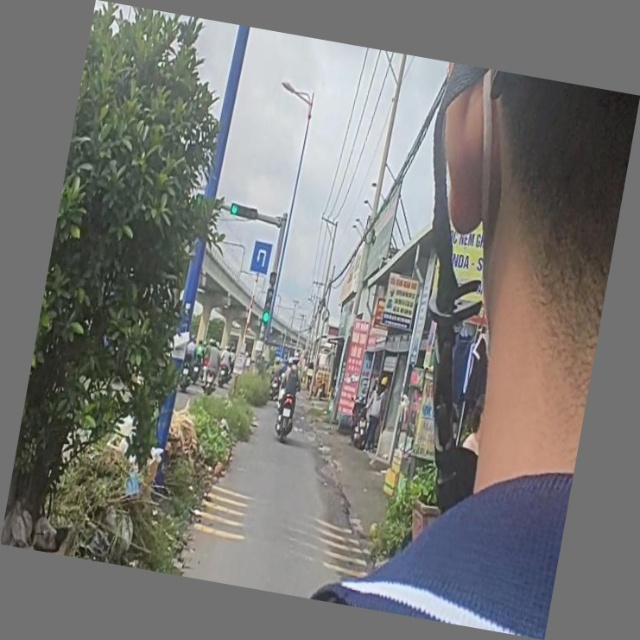I.409: (248, 238, 275, 279)
